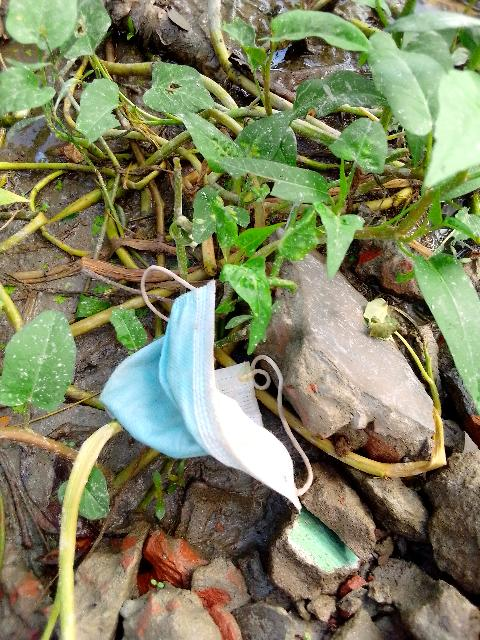mask: (103, 264, 303, 494)
